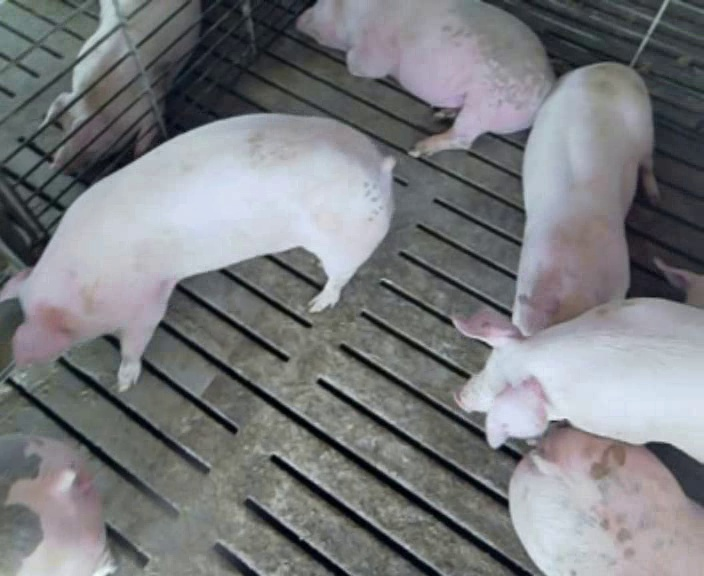pig: (0, 114, 393, 390), (454, 299, 703, 462), (296, 2, 553, 156), (512, 63, 658, 334), (40, 2, 200, 176)
